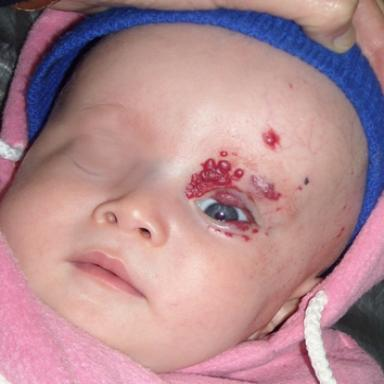Hemangiome: (185, 151, 244, 199), (251, 175, 281, 200), (214, 192, 240, 206), (262, 129, 280, 149), (225, 221, 249, 231), (242, 235, 249, 241), (225, 233, 233, 238), (252, 229, 258, 234)
